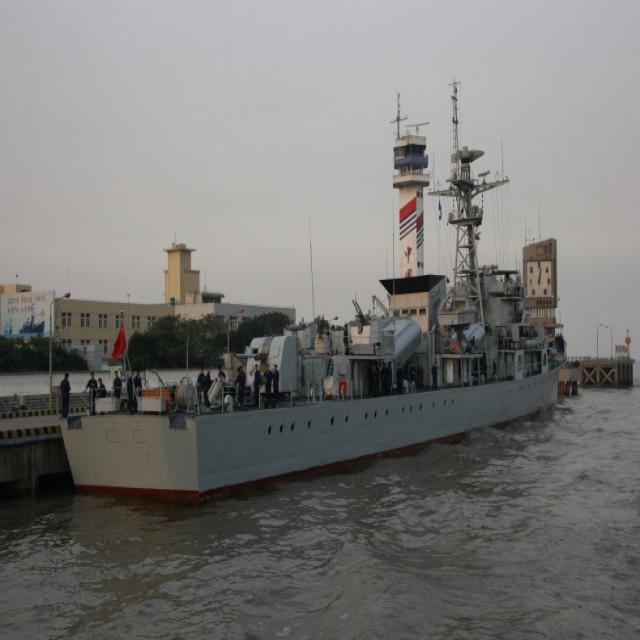Fragata: (48, 72, 571, 510)
